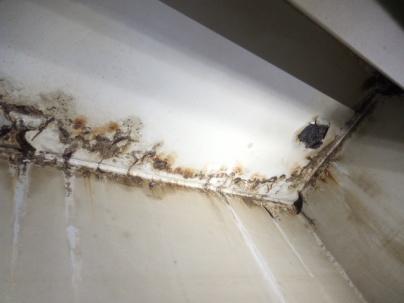corrosion: (142, 139, 270, 191), (272, 146, 344, 207), (54, 104, 137, 156), (60, 160, 171, 198), (2, 86, 50, 161), (282, 111, 331, 149)
